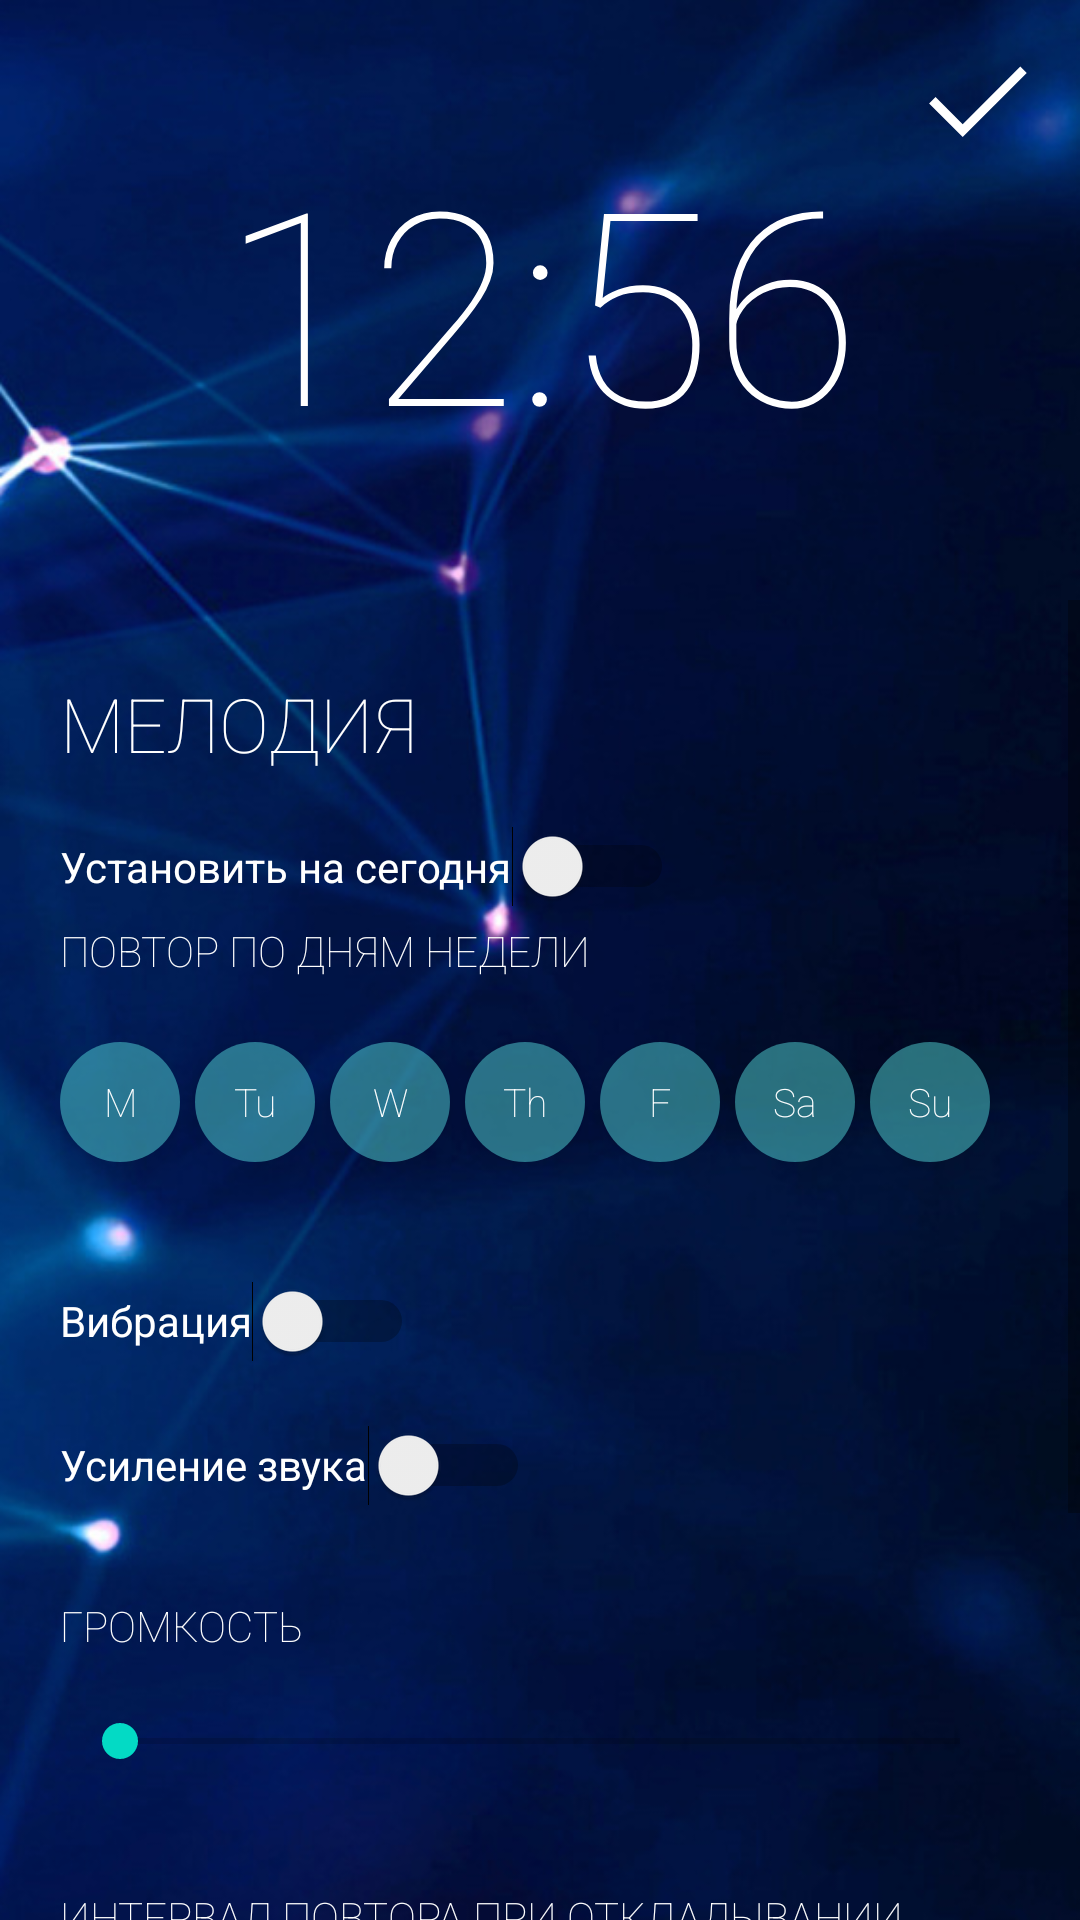

Screen size 1080×1920. Icon name, then its center in pixels as point (x, y):
save: point (978, 97)
